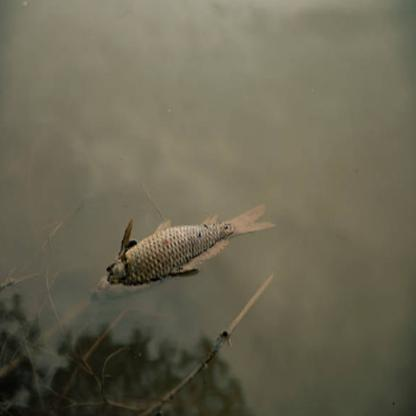deceased fish: (87, 200, 277, 296)
